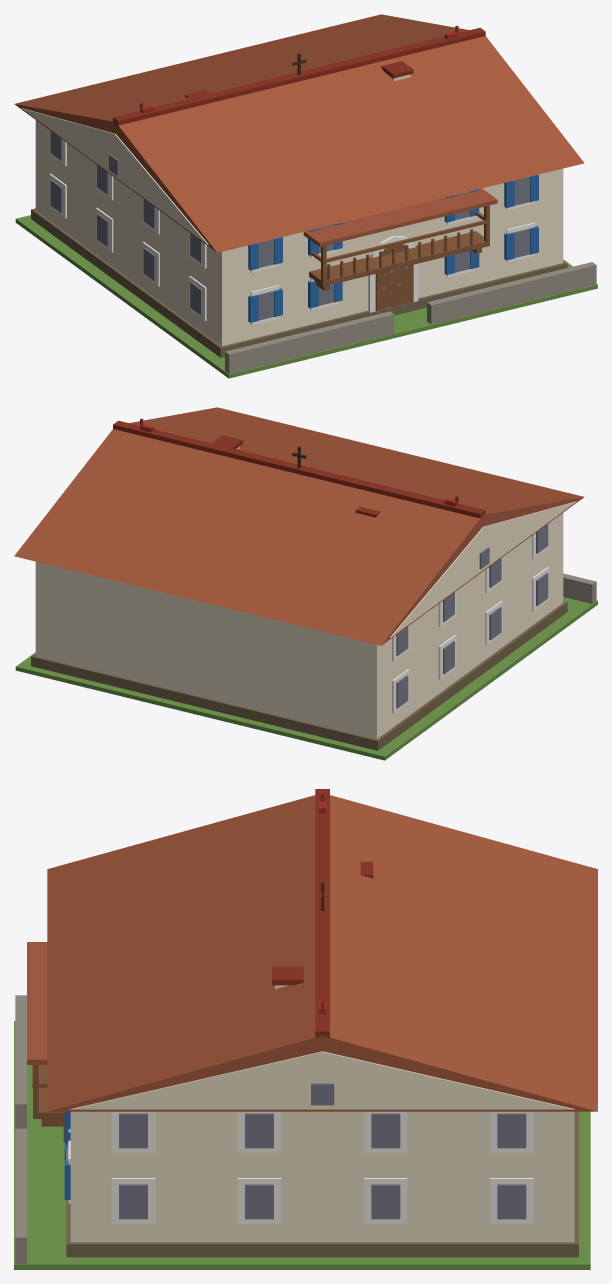
Rendered from house-2x2-2f-andean-a.glb.
3 renders of one model, top to bottom at view 1: azimuth 30°, elevation 25°; view 2: azimuth 150°, elevation 25°; view 3: azimuth 270°, elevation 25°, orthographic. The views are drawn at different scales.
Parts seen in each view (by area): view 1: house-2x2-2f-andean-a; view 2: house-2x2-2f-andean-a; view 3: house-2x2-2f-andean-a.
Part boxes in pixels (left/top/right/bottom): house-2x2-2f-andean-a: left=14, top=14, right=597, bottom=378; house-2x2-2f-andean-a: left=14, top=407, right=597, bottom=760; house-2x2-2f-andean-a: left=14, top=789, right=597, bottom=1269.
Size of the model in its own units: 2.01 by 1.01 by 2.01.
Materials: 1 (1 with a texture image).
